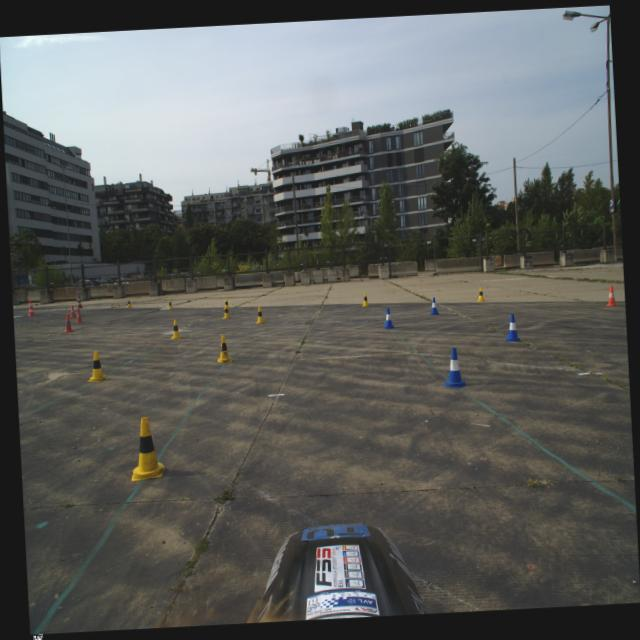blue_cone: (441, 347, 468, 389), (502, 314, 522, 342), (382, 308, 396, 330), (428, 297, 441, 315)
large_orange_cone: (26, 300, 36, 316), (76, 295, 84, 308)
orange_cone: (604, 285, 619, 307), (64, 314, 74, 332), (76, 308, 84, 323), (69, 306, 77, 318)
yellow_cone: (128, 416, 165, 482), (85, 350, 108, 382), (217, 334, 232, 362), (170, 318, 182, 339), (254, 306, 266, 324), (222, 304, 232, 320), (476, 287, 486, 302), (360, 292, 370, 306), (222, 298, 230, 310), (168, 299, 174, 310), (127, 298, 132, 308)
